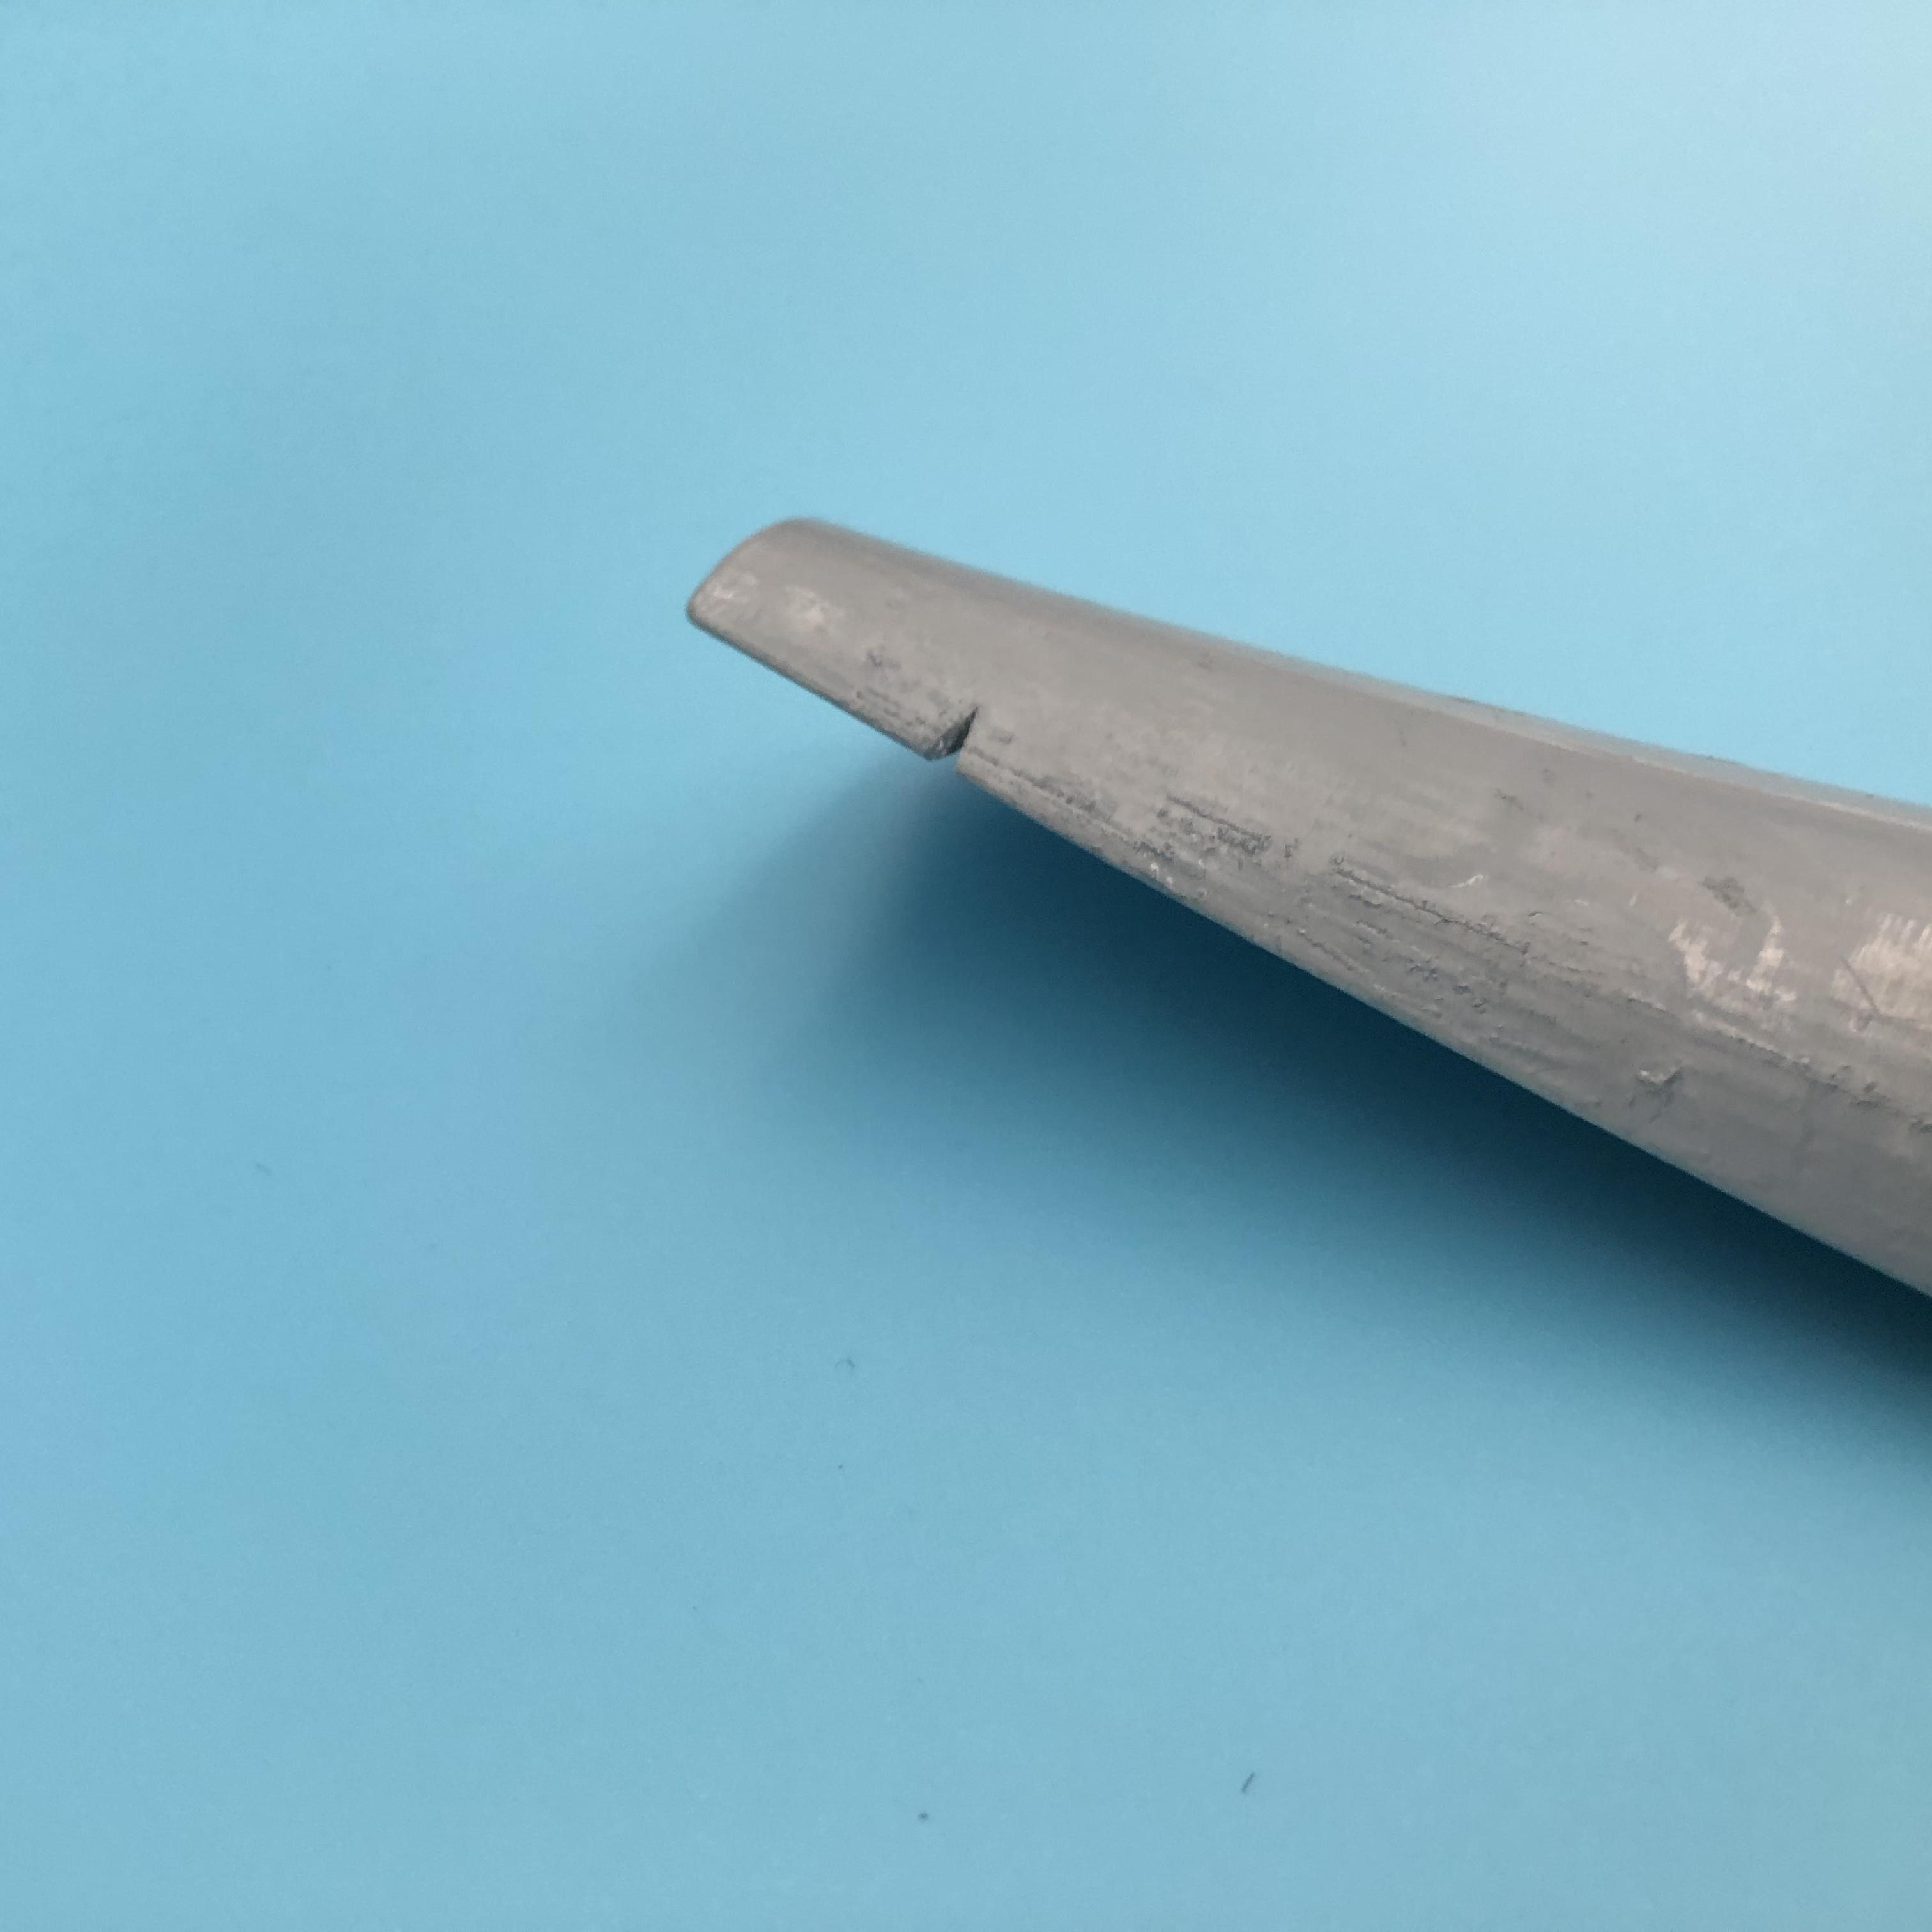groove: (918, 702, 989, 780)
